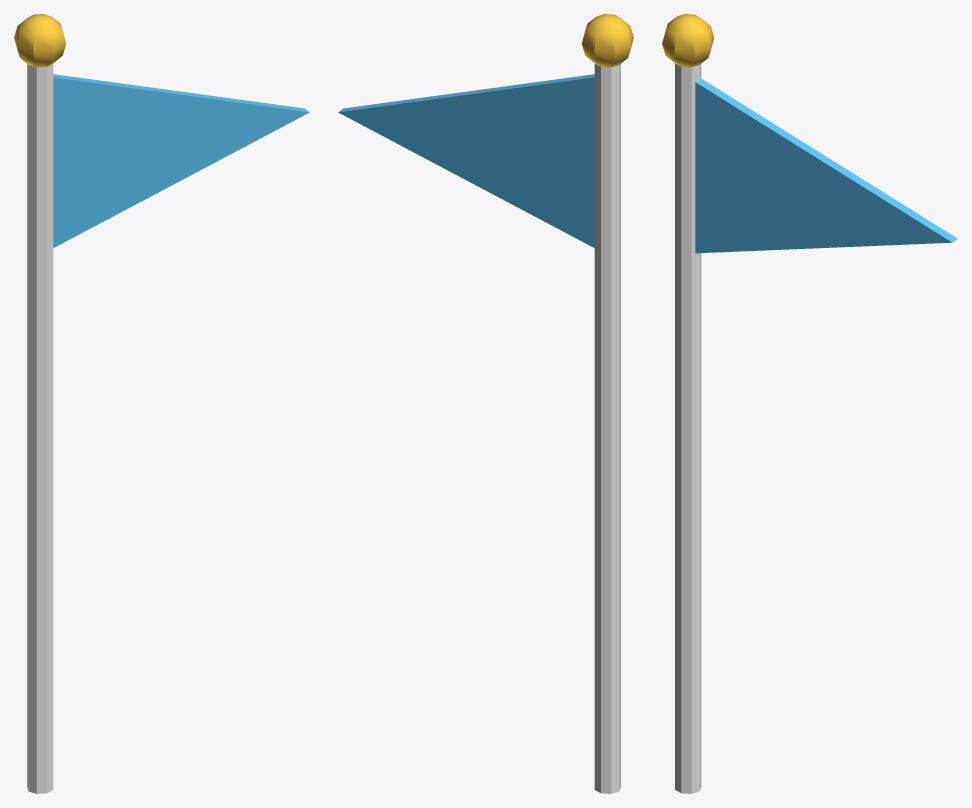
Rendered from flag.glb.
3 renders of one model, left to right at view 1: azimuth 30°, elevation 25°; view 2: azimuth 150°, elevation 25°; view 3: azimuth 330°, elevation 25°, orthographic.
Parts seen in each view (by area): view 1: flag; view 2: flag; view 3: flag.
Boxes of the visible parts, <box> form: flag: <box>14,14,309,793</box>; flag: <box>338,14,633,793</box>; flag: <box>662,14,957,793</box>.
Size of the model in its own units: 1.24 by 3.15 by 0.2.
